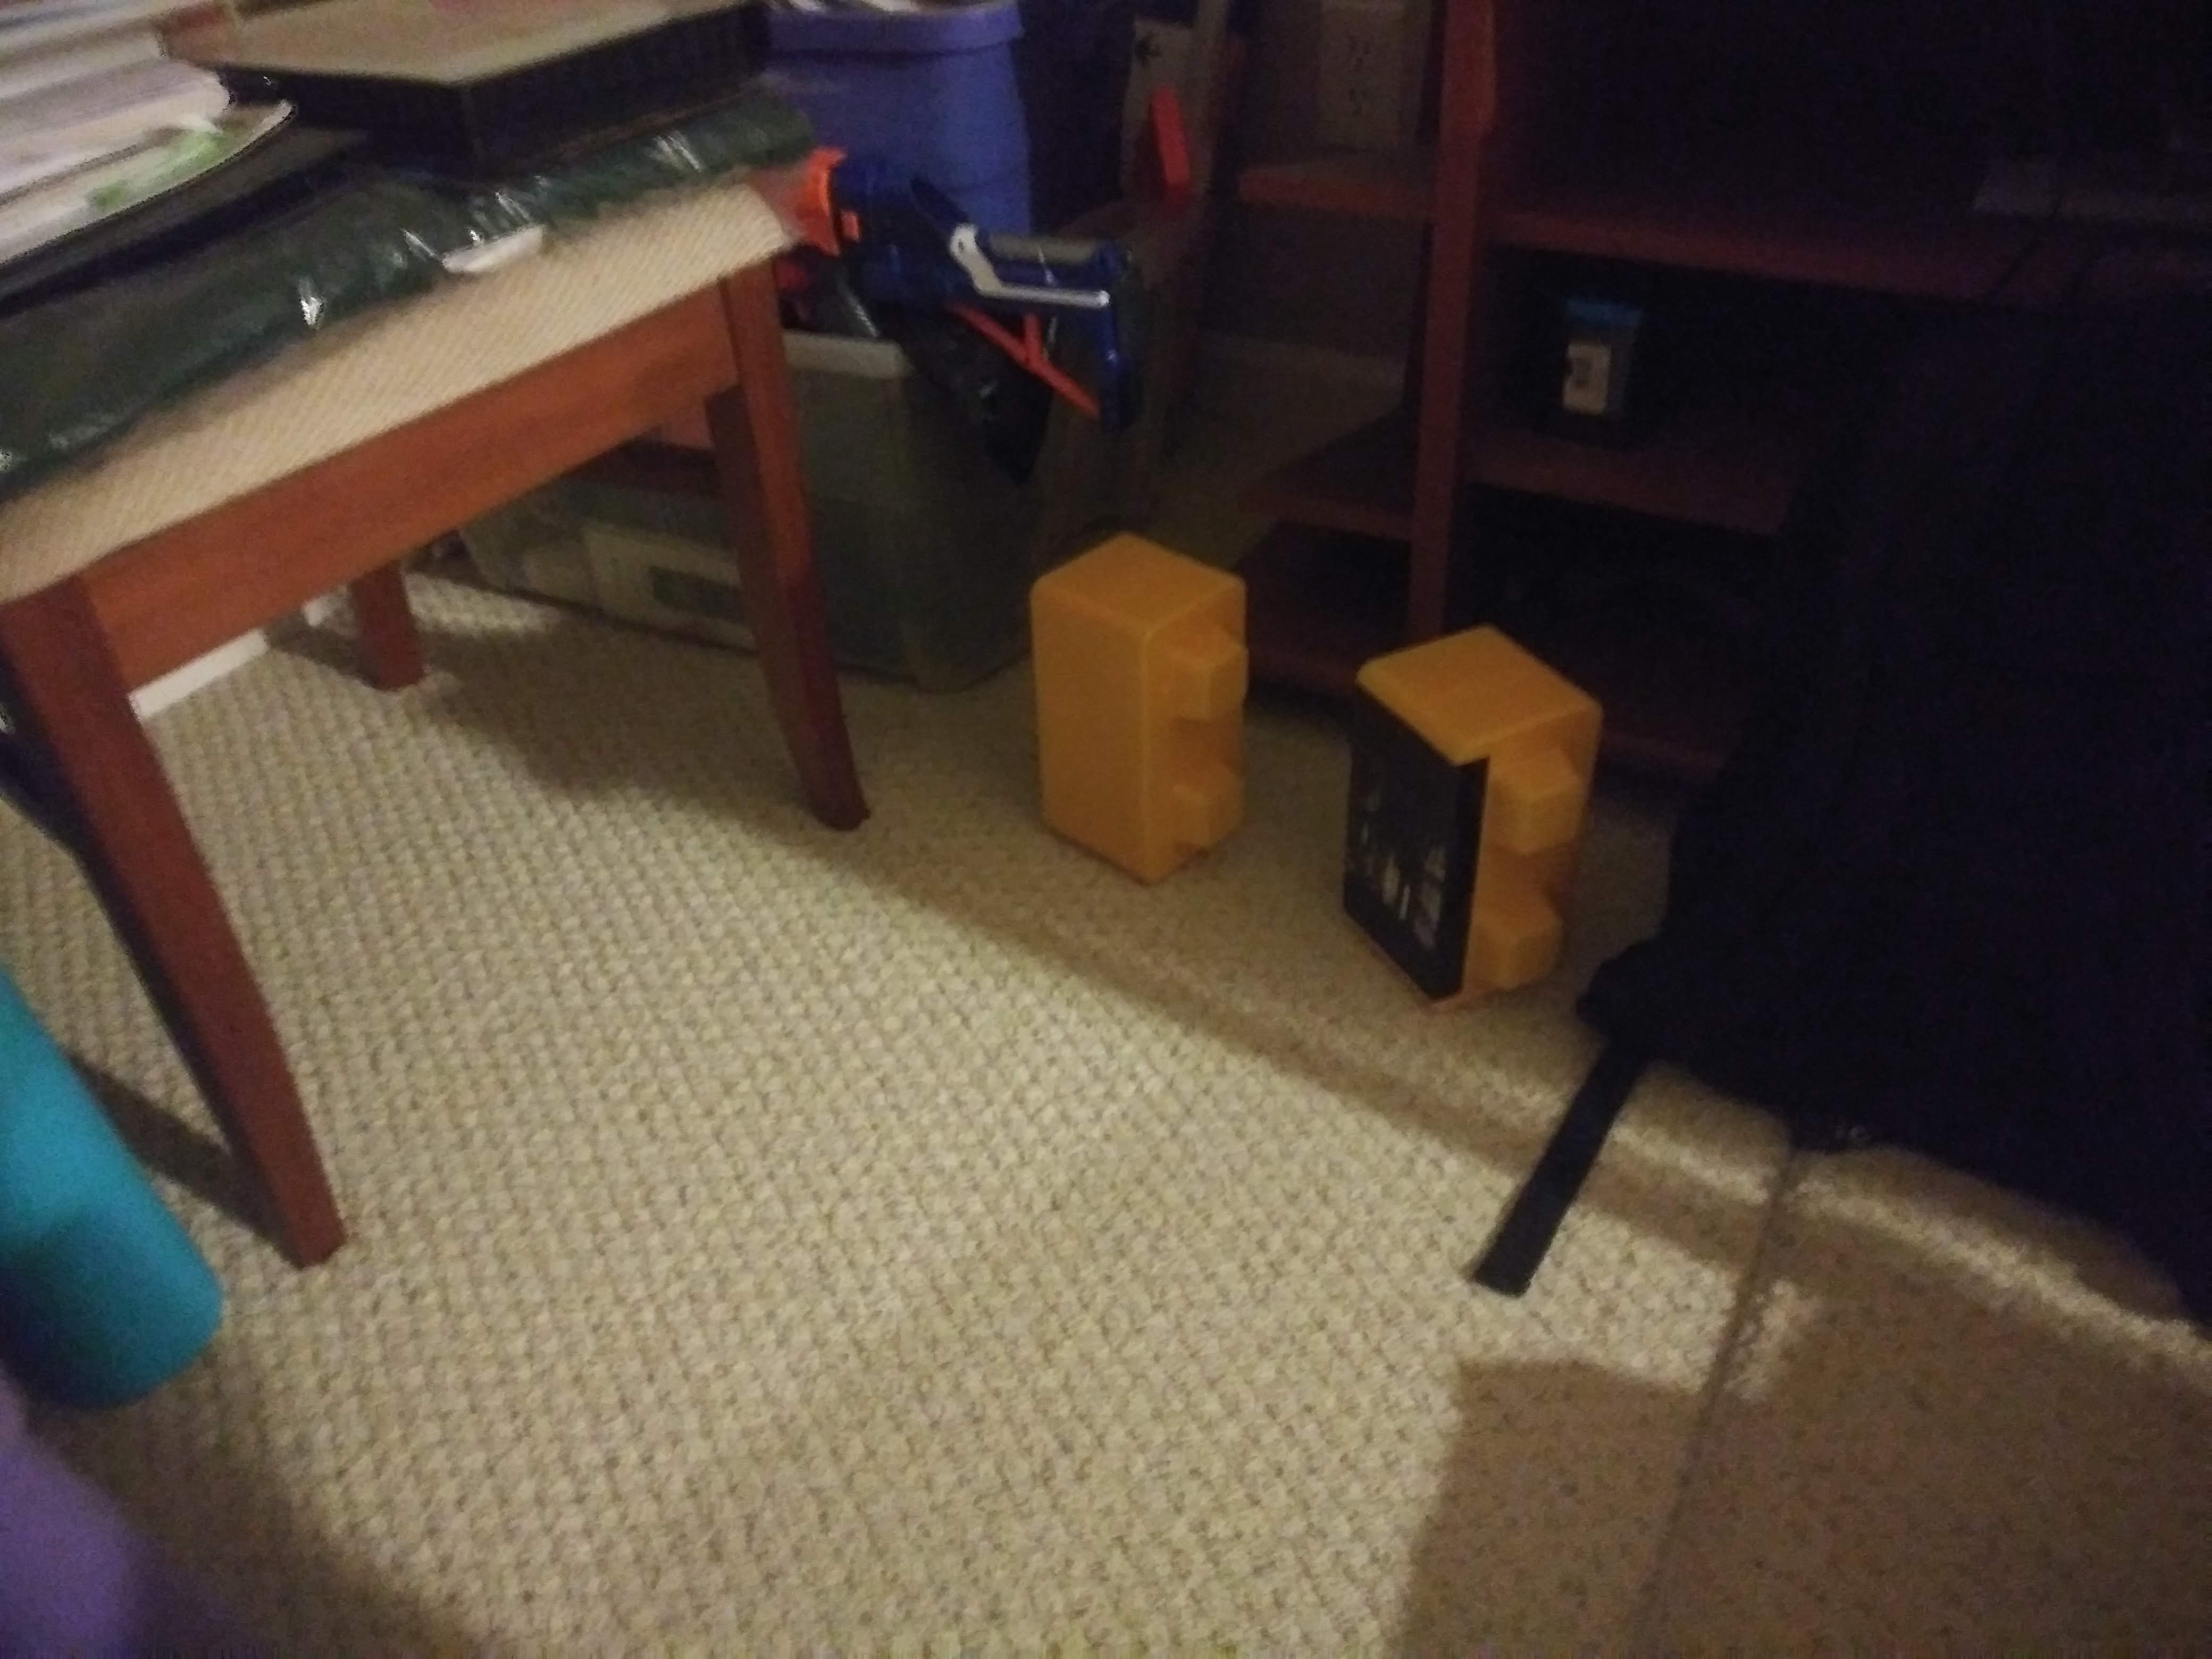skystone: (1355, 648, 1573, 1007)
stone: (1038, 554, 1249, 871)
